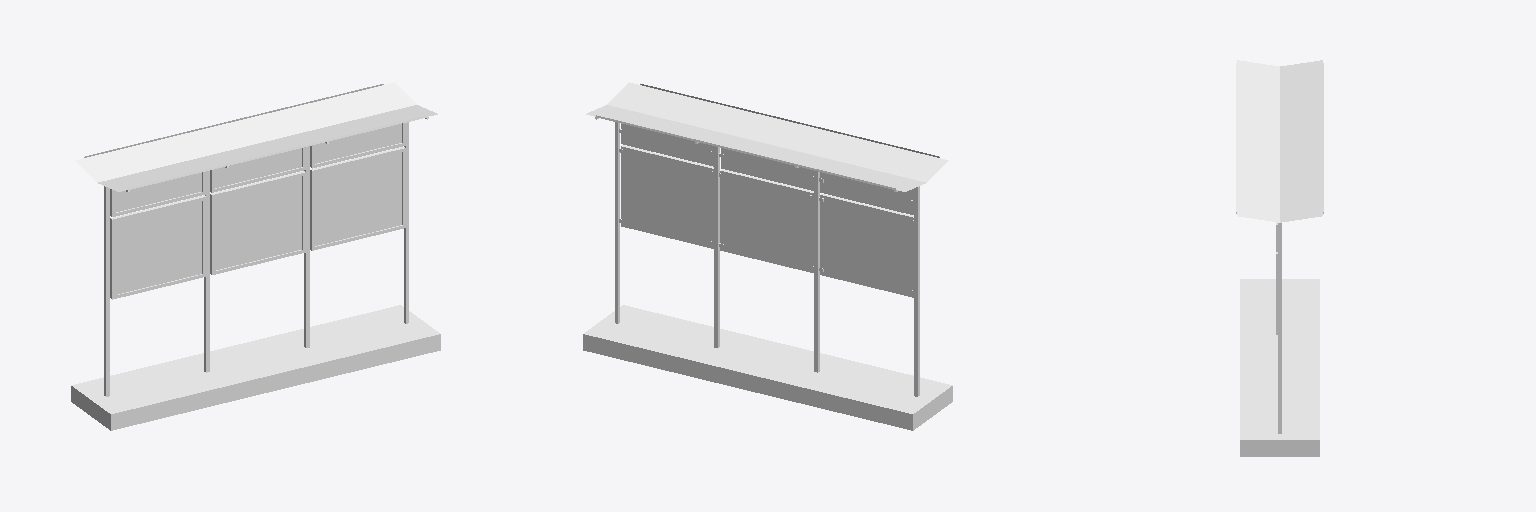
File: Newspaper_stand.obj
3 renders of one model, left to right at view 1: azimuth 30°, elevation 25°; view 2: azimuth 150°, elevation 25°; view 3: azimuth 270°, elevation 25°, orthographic.
Visible parts, largest first — view 1: Newspaper_stand; view 2: Newspaper_stand; view 3: Newspaper_stand.
Boxes of the visible parts, box(x1,y1,x2,y2) form: Newspaper_stand: box(71, 82, 440, 430); Newspaper_stand: box(583, 82, 952, 430); Newspaper_stand: box(1236, 60, 1323, 456).
Size of the model in its own units: 3616 by 2515 by 842.